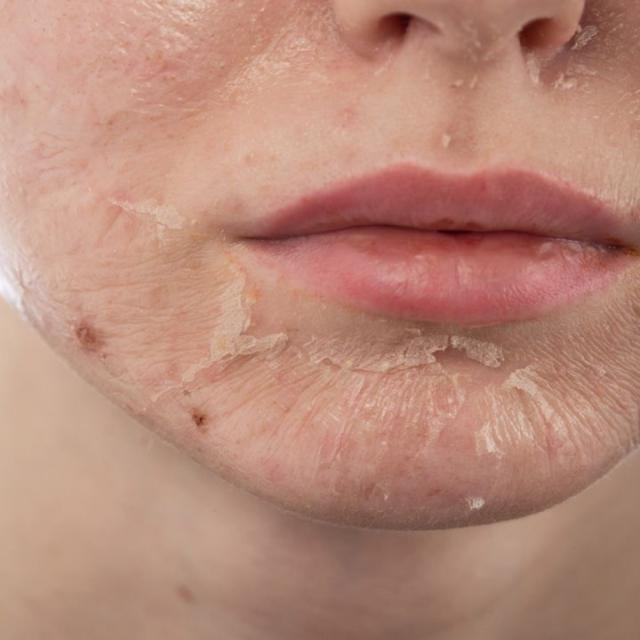dry: (370, 363, 480, 452), (486, 19, 606, 81), (222, 313, 311, 392), (57, 190, 178, 238), (322, 433, 402, 501), (71, 26, 169, 78), (530, 387, 618, 436), (8, 34, 62, 102), (203, 416, 279, 464), (140, 298, 202, 356), (50, 130, 152, 162), (252, 12, 329, 54), (183, 106, 272, 142), (324, 82, 446, 106), (60, 289, 121, 337), (570, 134, 608, 188), (43, 101, 57, 210), (7, 100, 16, 208), (199, 24, 238, 44), (439, 482, 482, 500), (553, 88, 583, 102), (203, 71, 254, 78), (224, 154, 272, 160), (402, 501, 430, 506), (592, 324, 635, 327), (432, 138, 485, 140)
